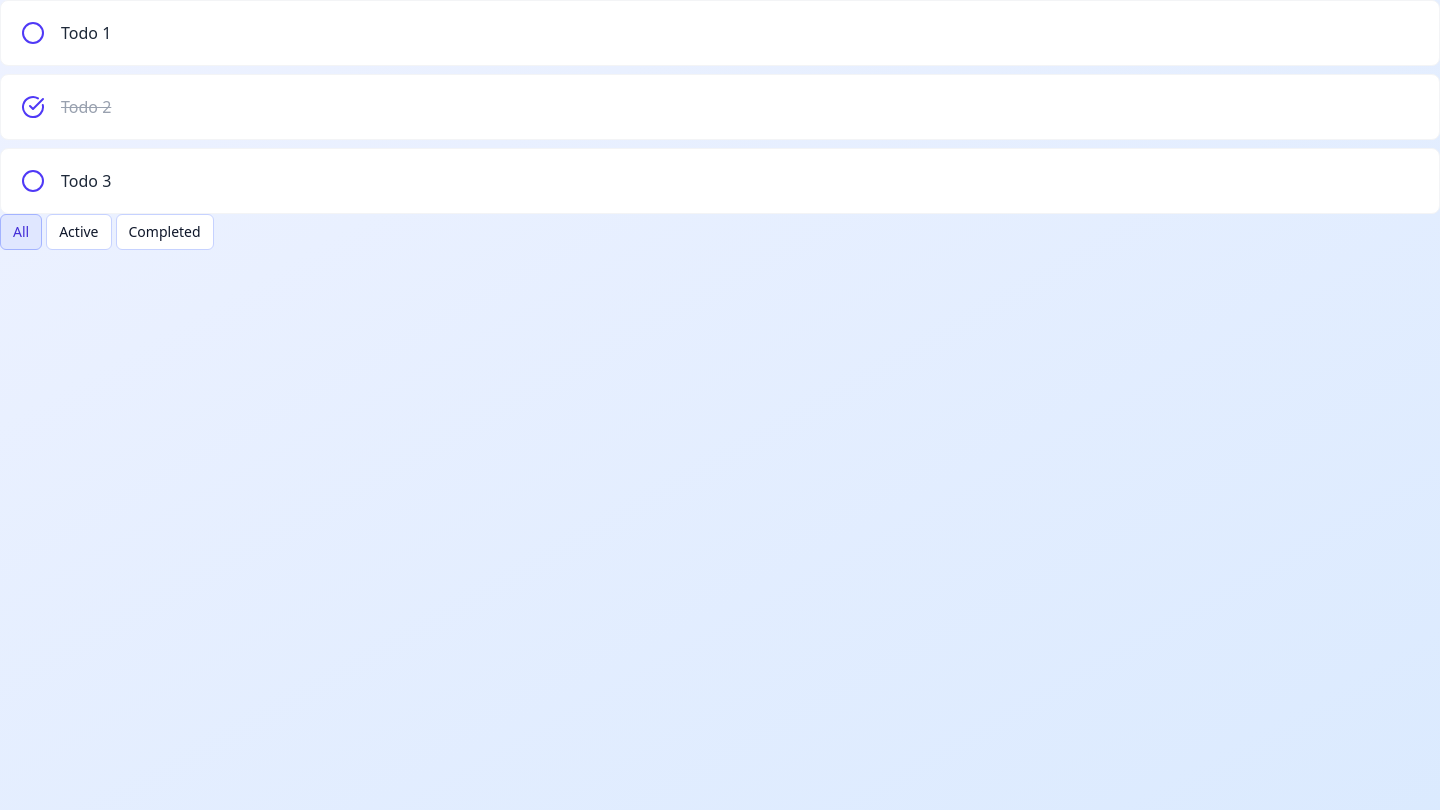
Test: TodoFilter test › Should render only completed todos if the filter is "completed"
Click the button "Completed": (165, 232) [116,214,214,250]
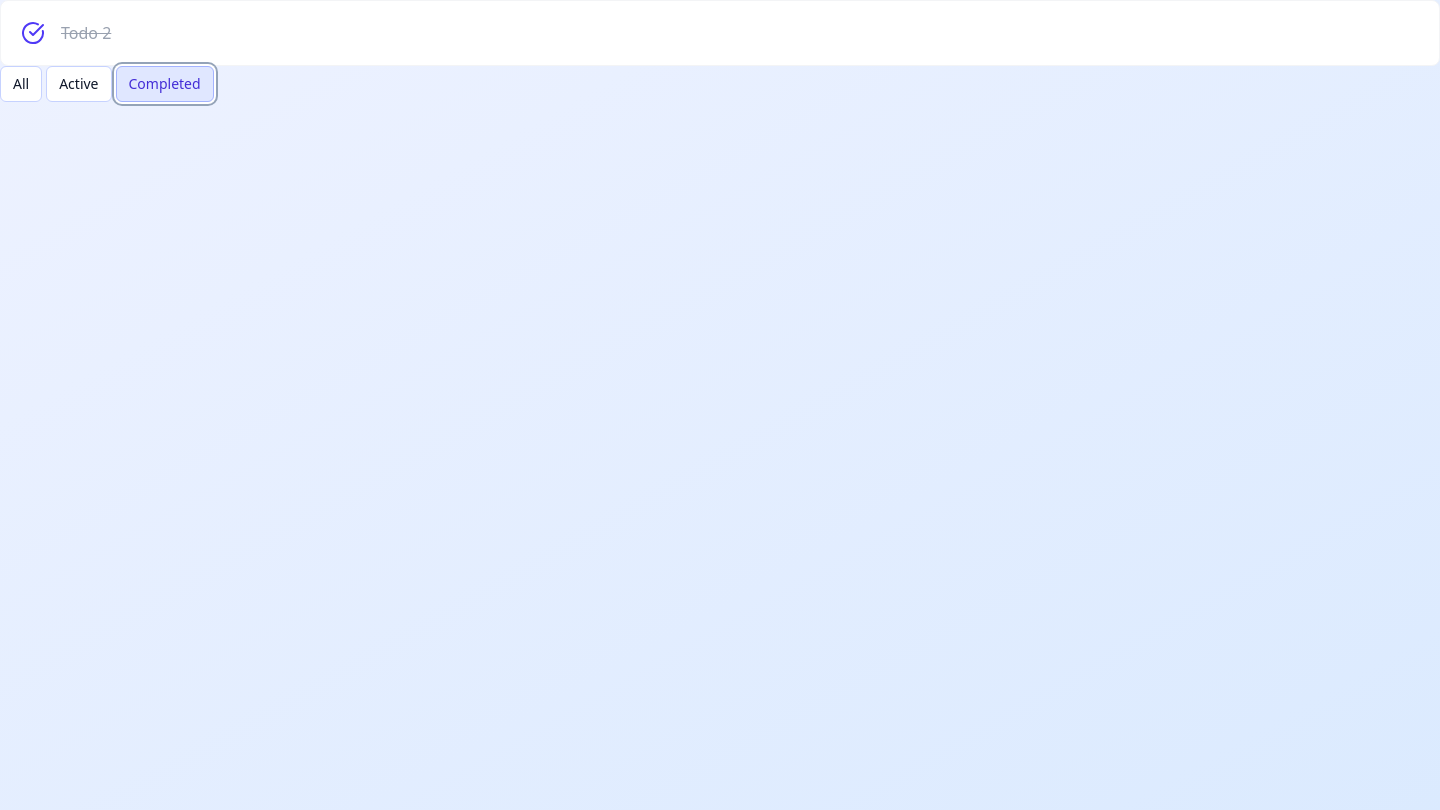
Expected: the number of headings "Todo 2" is 1, [61,22,111,44]
